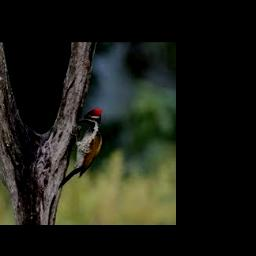Woodpecker: (58, 109, 102, 187)
